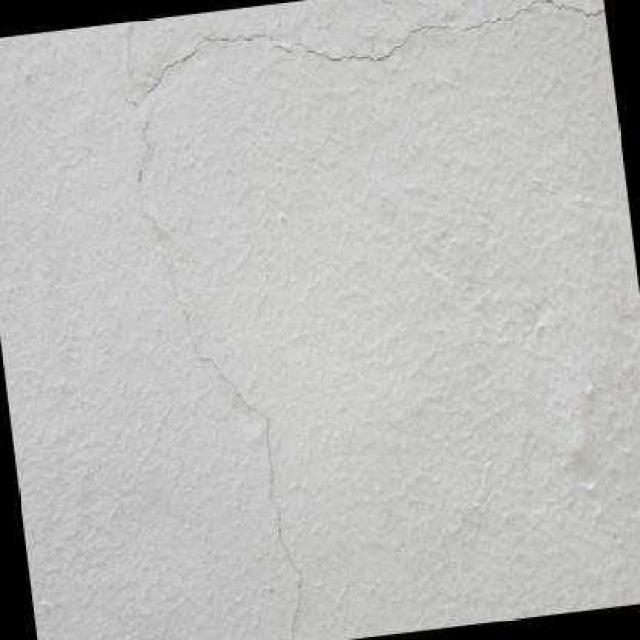D00: (126, 0, 605, 640)
